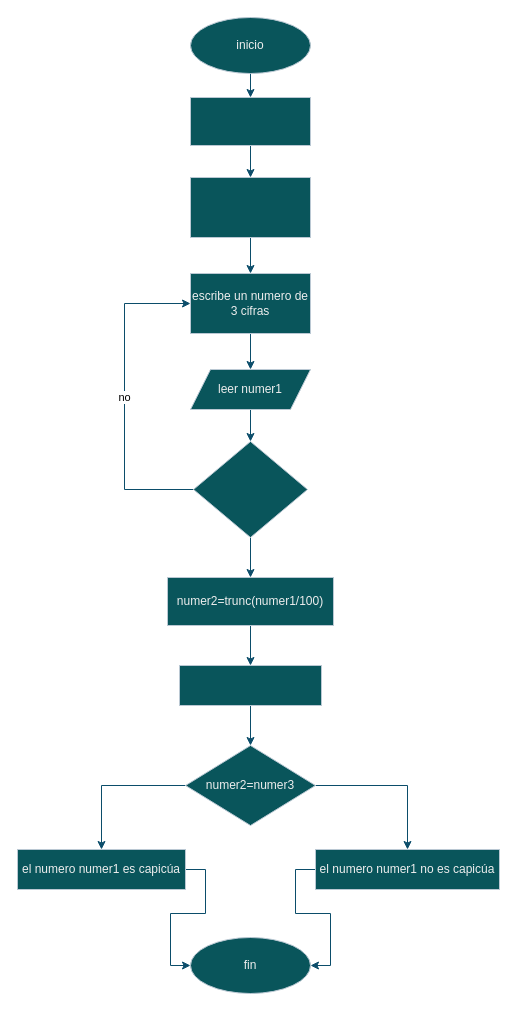
The diagram is 517 pixels wide and 1011 high, and some of its shapes have lost their labels. The box of each missing label's shape, as (x1, y1, x2, y2) in pixels:
definir numer1, numer2, numer3 como numerico: (190, 176, 310, 238)
numer1>99: (192, 440, 308, 538)
numer3=numer1 mod 10: (178, 664, 322, 706)
numero capicúa: (190, 96, 310, 146)
